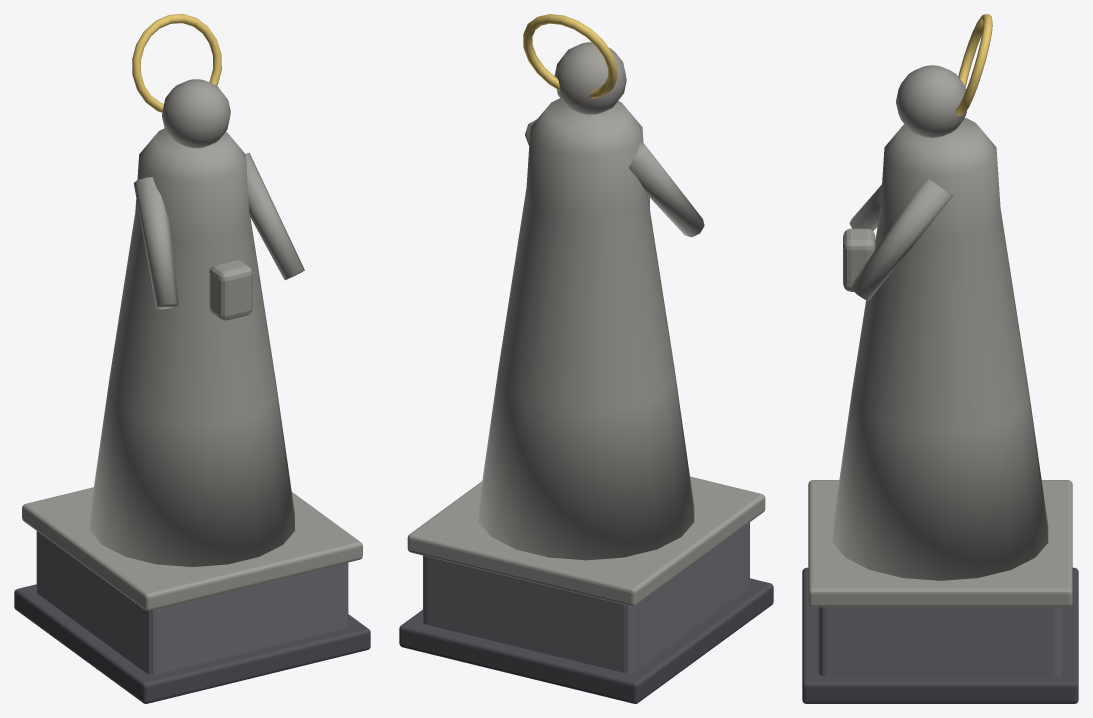
The model's file is statue_saint_praying.glb.
3 renders of one model, left to right at view 1: azimuth 30°, elevation 25°; view 2: azimuth 150°, elevation 25°; view 3: azimuth 270°, elevation 25°, orthographic. The views are drawn at different scales.
Parts seen in each view (by area): view 1: GD_statue_saint_praying__m2, GD_statue_saint_praying__m0, GD_statue_saint_praying__m1, GD_statue_saint_praying__m3; view 2: GD_statue_saint_praying__m2, GD_statue_saint_praying__m0, GD_statue_saint_praying__m1, GD_statue_saint_praying__m3; view 3: GD_statue_saint_praying__m2, GD_statue_saint_praying__m0, GD_statue_saint_praying__m1, GD_statue_saint_praying__m3.
Part boxes in pixels (x1=…): GD_statue_saint_praying__m2: x1=22, y1=79, x2=362, y2=611; GD_statue_saint_praying__m0: x1=36, y1=531, x2=348, y2=674; GD_statue_saint_praying__m1: x1=14, y1=584, x2=370, y2=703; GD_statue_saint_praying__m3: x1=132, y1=14, x2=221, y2=112; GD_statue_saint_praying__m2: x1=407, y1=42, x2=765, y2=606; GD_statue_saint_praying__m0: x1=423, y1=522, x2=749, y2=673; GD_statue_saint_praying__m1: x1=399, y1=578, x2=773, y2=703; GD_statue_saint_praying__m3: x1=523, y1=14, x2=617, y2=98; GD_statue_saint_praying__m2: x1=808, y1=65, x2=1072, y2=607; GD_statue_saint_praying__m0: x1=818, y1=607, x2=1062, y2=676; GD_statue_saint_praying__m1: x1=802, y1=567, x2=1078, y2=703; GD_statue_saint_praying__m3: x1=956, y1=14, x2=992, y2=115.
Bounding box in the file's own units: 0.68 × 1.71 × 0.68.
